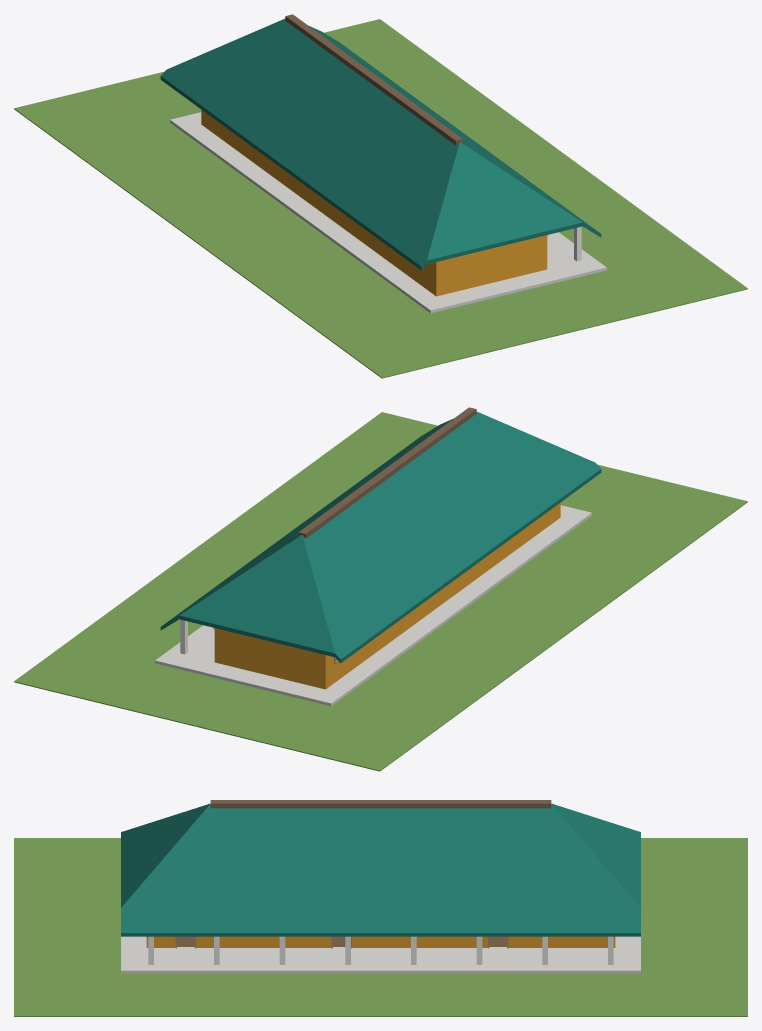
File: salones5.glb
3 renders of one model, top to bottom at view 1: azimuth 30°, elevation 25°; view 2: azimuth 150°, elevation 25°; view 3: azimuth 270°, elevation 25°, orthographic.
Visible parts, largest first — view 1: Salones 5A, B y C; view 2: Salones 5A, B y C; view 3: Salones 5A, B y C.
Boxes of the visible parts, x1=… form: Salones 5A, B y C: x1=14, y1=14, x2=747, y2=378; Salones 5A, B y C: x1=14, y1=407, x2=747, y2=771; Salones 5A, B y C: x1=14, y1=800, x2=747, y2=1016.
Bounding box in the file's own units: 19.68 × 6.33 × 34.27.
